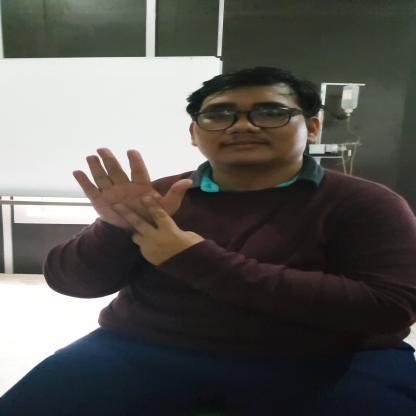N: (68, 147, 199, 253)
